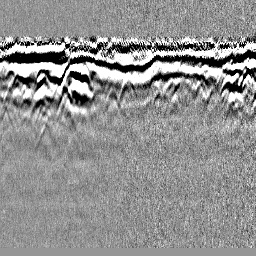cavity: (119, 72, 138, 100)
